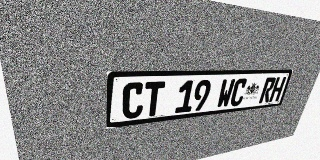1: (175, 80, 196, 113)
9: (191, 80, 212, 111)
C: (122, 82, 145, 120), (229, 78, 248, 107)
H: (269, 77, 286, 102)
R: (258, 77, 277, 103)
T: (143, 81, 165, 117)
W: (216, 79, 236, 108)
